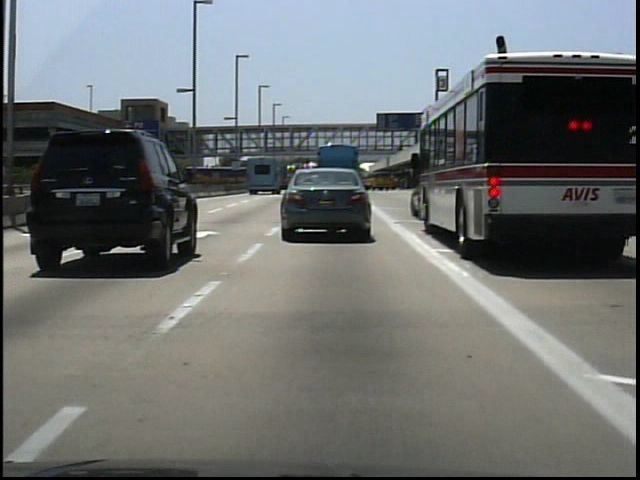person: (395, 135, 408, 157), (371, 137, 384, 157)
